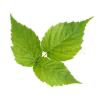Raspberry leaf: (39, 15, 96, 63), (8, 13, 43, 68), (32, 56, 84, 88)
